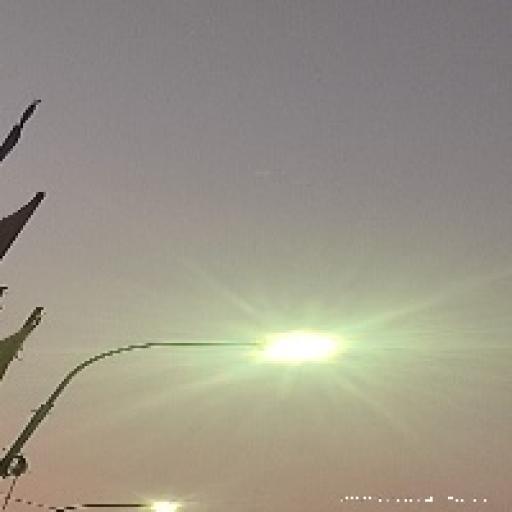Working: (252, 318, 360, 380), (133, 496, 187, 512)
